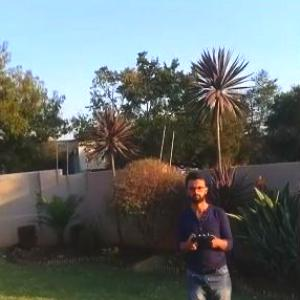follow: (173, 167, 237, 299)
